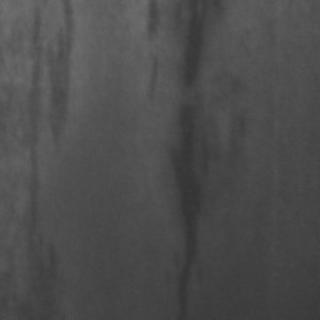inclusion: (168, 2, 226, 312), (16, 1, 76, 236), (138, 0, 168, 104)
